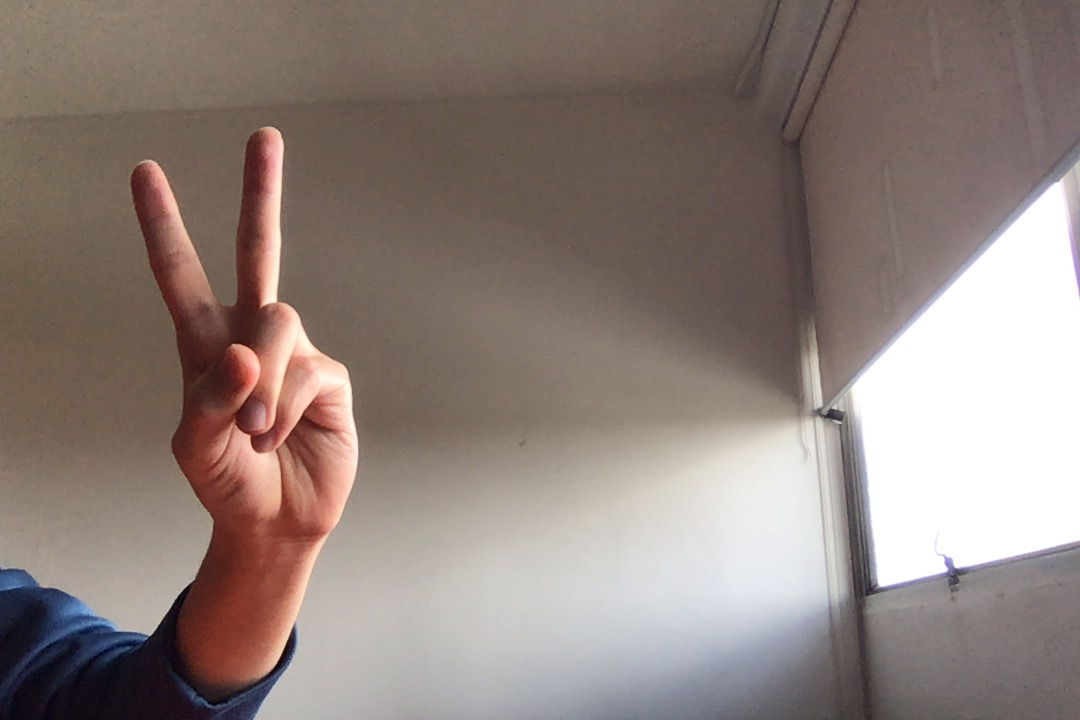peacesign: (122, 118, 367, 558)
